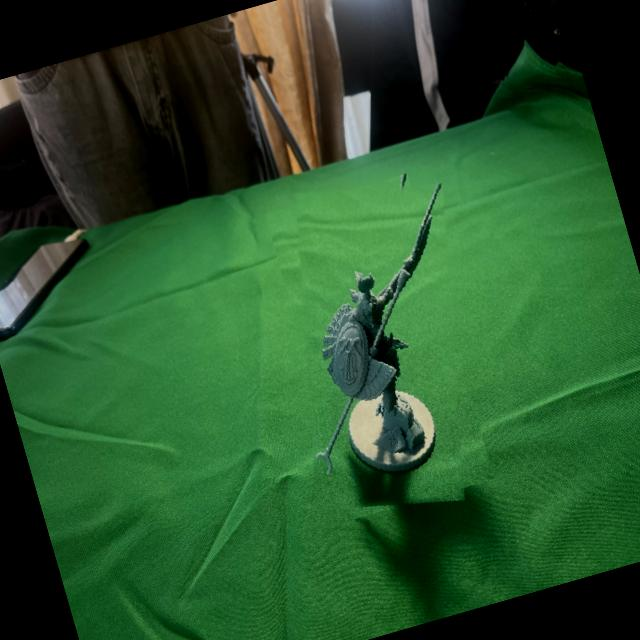isis: (248, 163, 511, 529)
